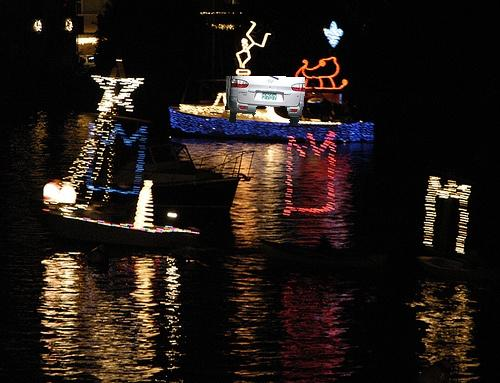tampered: (226, 77, 305, 126)
